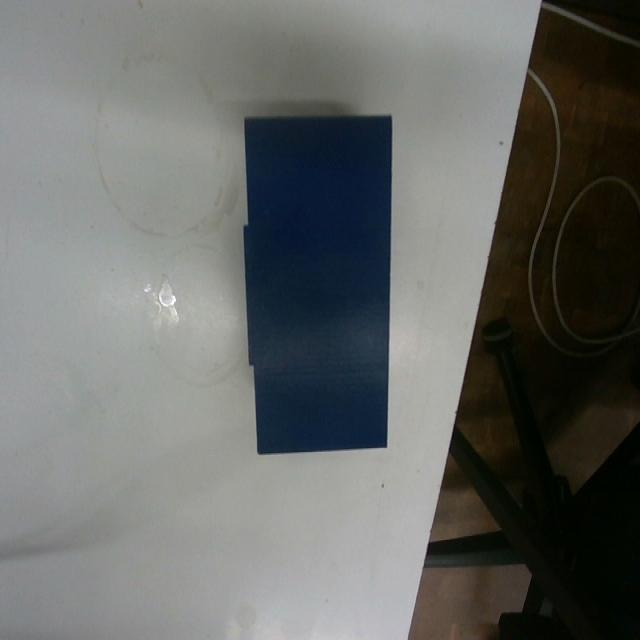Blue Cuboid: (240, 111, 393, 456)
